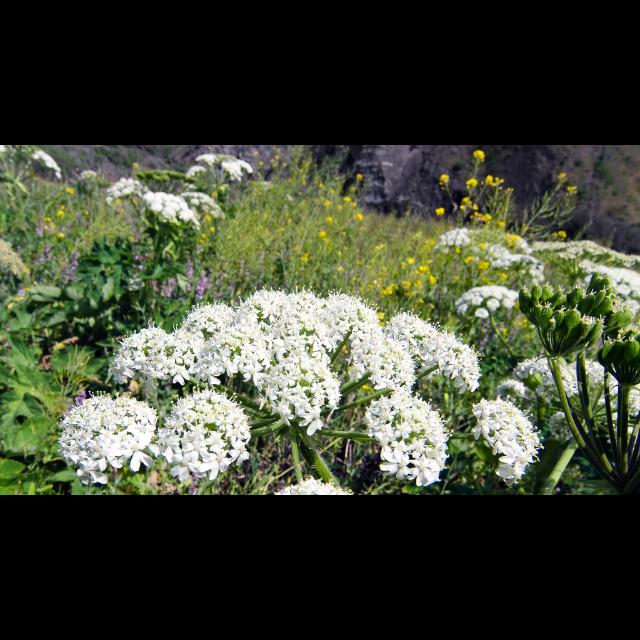Flower: (233, 297, 475, 433), (54, 390, 152, 486), (364, 392, 448, 486), (158, 386, 246, 470), (469, 401, 543, 487), (180, 302, 234, 380), (111, 324, 173, 384)
